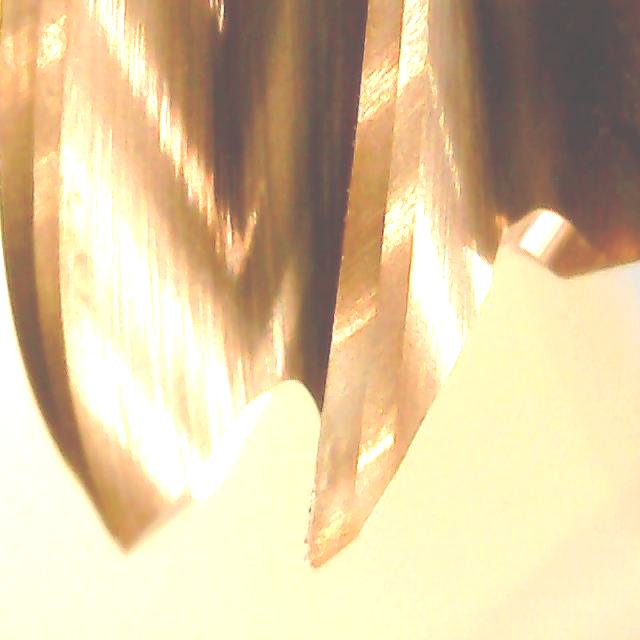Tool-wear-class-0: (296, 217, 426, 573)
